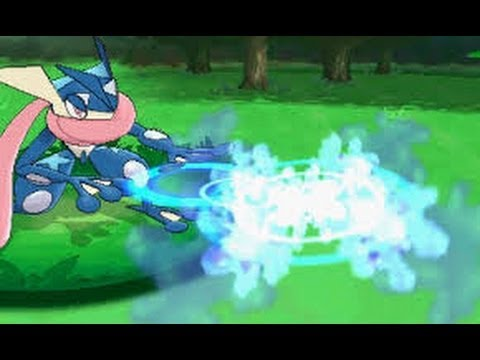greninja: (1, 38, 231, 249)
